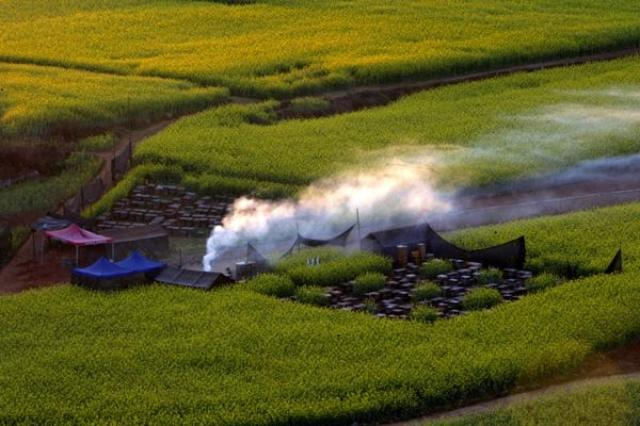smoke: (203, 154, 464, 272)
